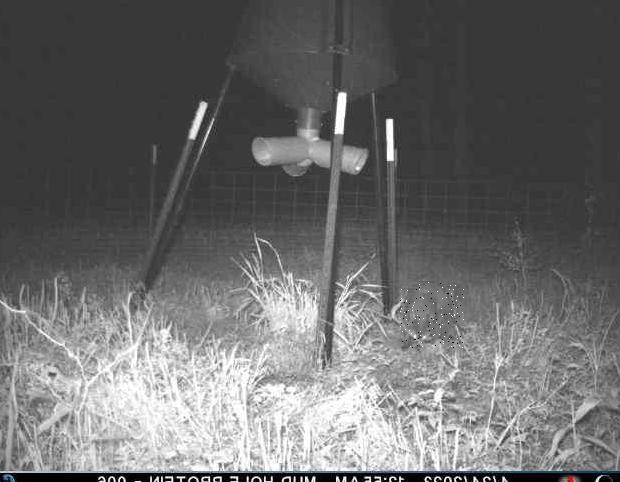Raccoon: (400, 282, 464, 351)
